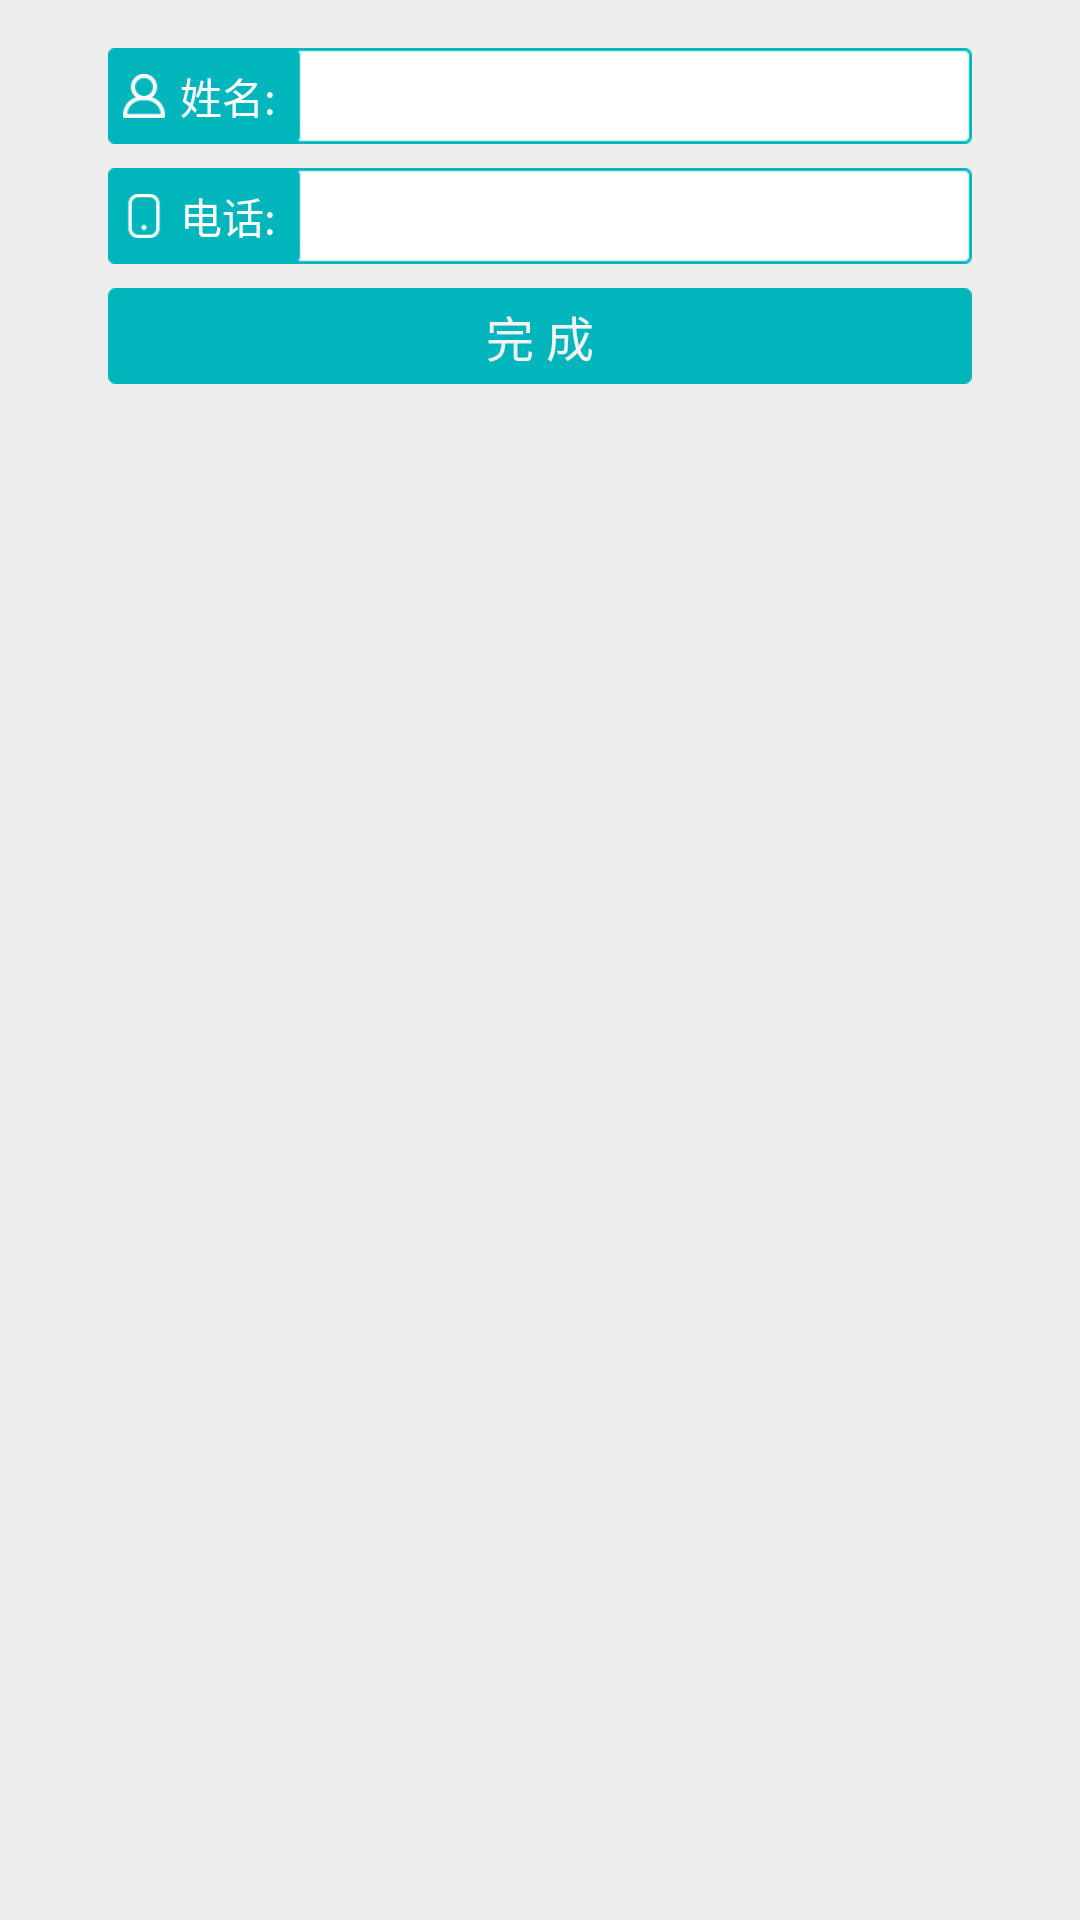

Screen size 1080x1920. Icon name, then its box in pixels as {"left": x1, "top": y1, "right": x2, "bottom": y2}:
account: {"left": 123, "top": 74, "right": 165, "bottom": 118}
phone: {"left": 128, "top": 194, "right": 160, "bottom": 238}
